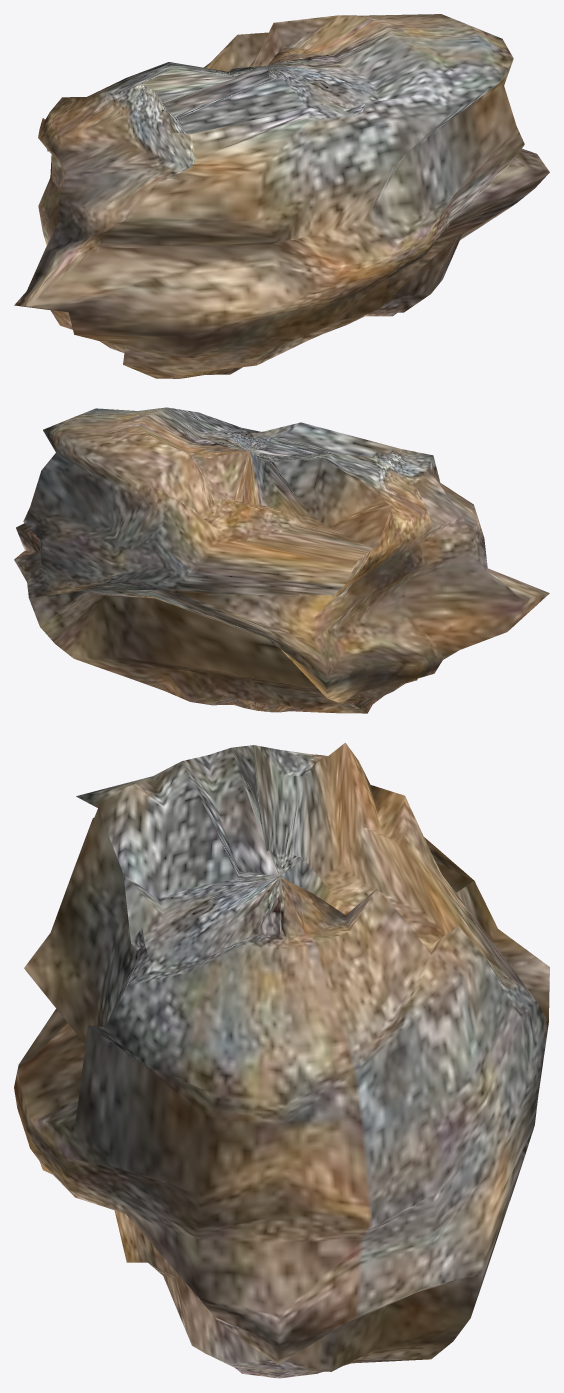
File: Hierro.fbx
3 renders of one model, top to bottom at view 1: azimuth 30°, elevation 25°; view 2: azimuth 150°, elevation 25°; view 3: azimuth 270°, elevation 25°, orthographic. The views are drawn at different scales.
Visible parts, largest first — view 1: pSphere1; view 2: pSphere1; view 3: pSphere1.
Part boxes in pixels (x1=…): pSphere1: x1=14, y1=14, x2=549, y2=378; pSphere1: x1=14, y1=407, x2=549, y2=713; pSphere1: x1=14, y1=742, x2=549, y2=1378.
Bounding box in the file's own units: 20.92 × 10.81 × 11.26.
Materials: 1 (1 with a texture image).
